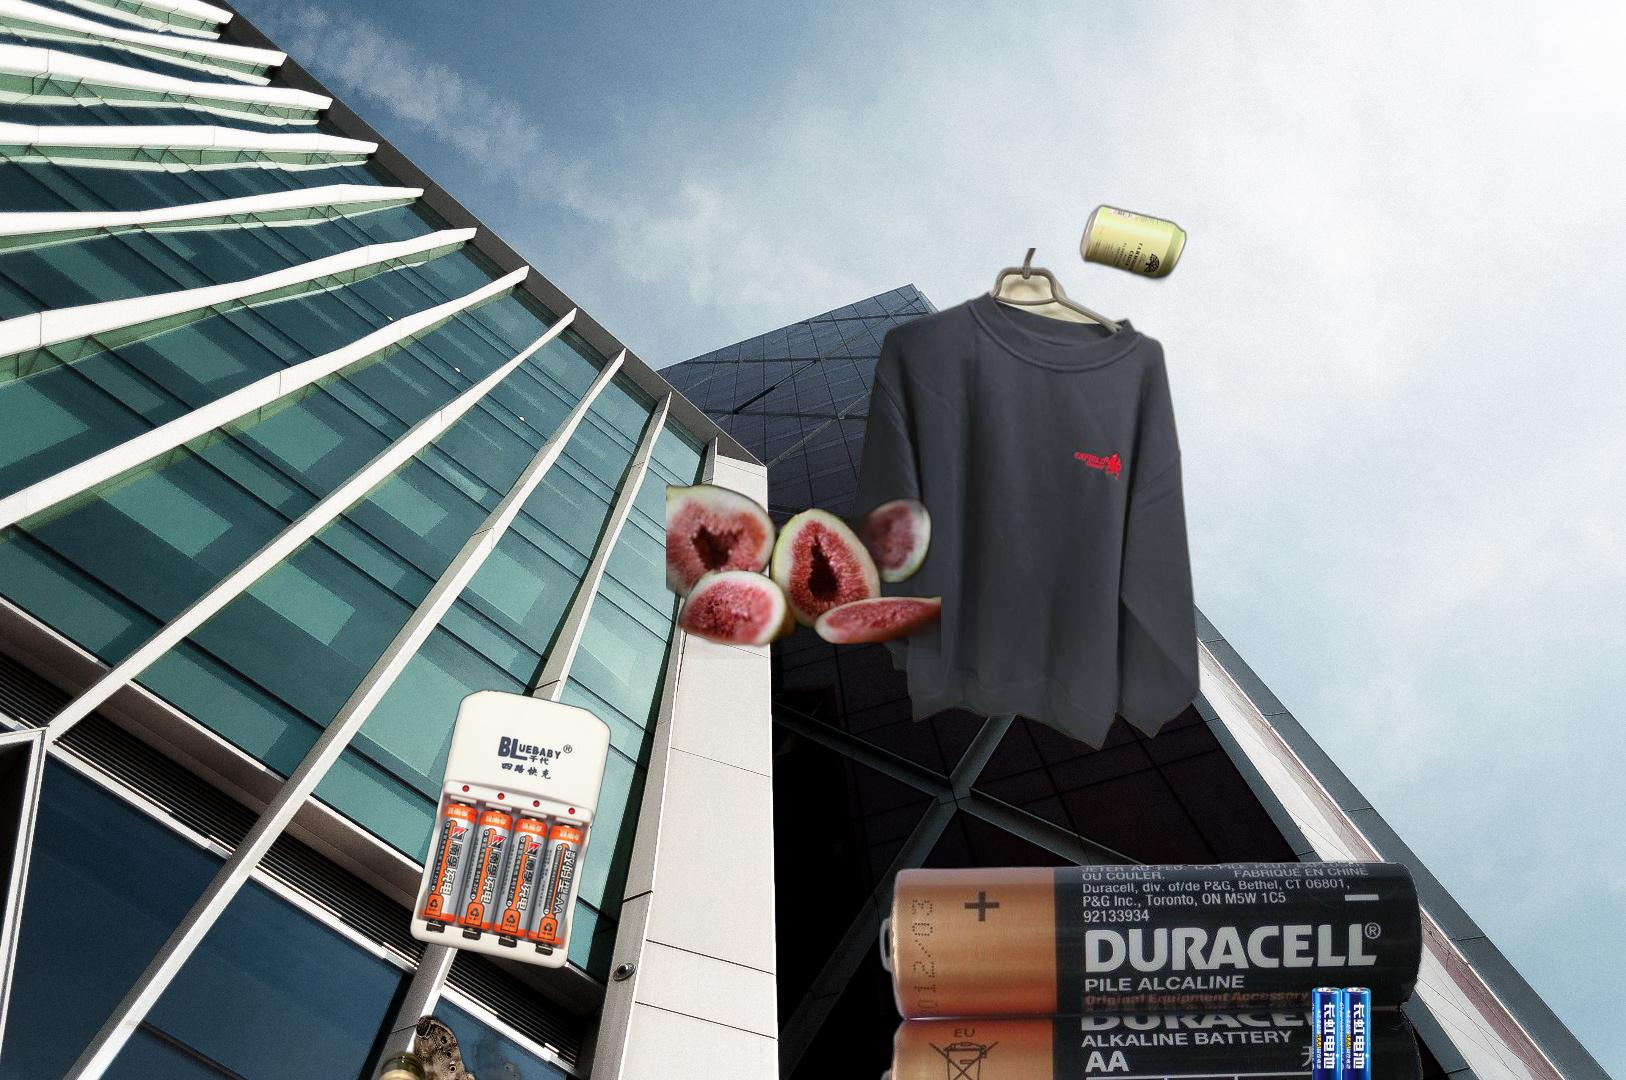battery: (874, 857, 1430, 1080), (407, 687, 614, 972), (1309, 984, 1374, 1080)
biological: (667, 476, 941, 659)
clothes: (838, 248, 1204, 755)
glass: (247, 1046, 460, 1080)
metal-cans: (1076, 199, 1190, 287)
shoes: (327, 988, 580, 1080)
